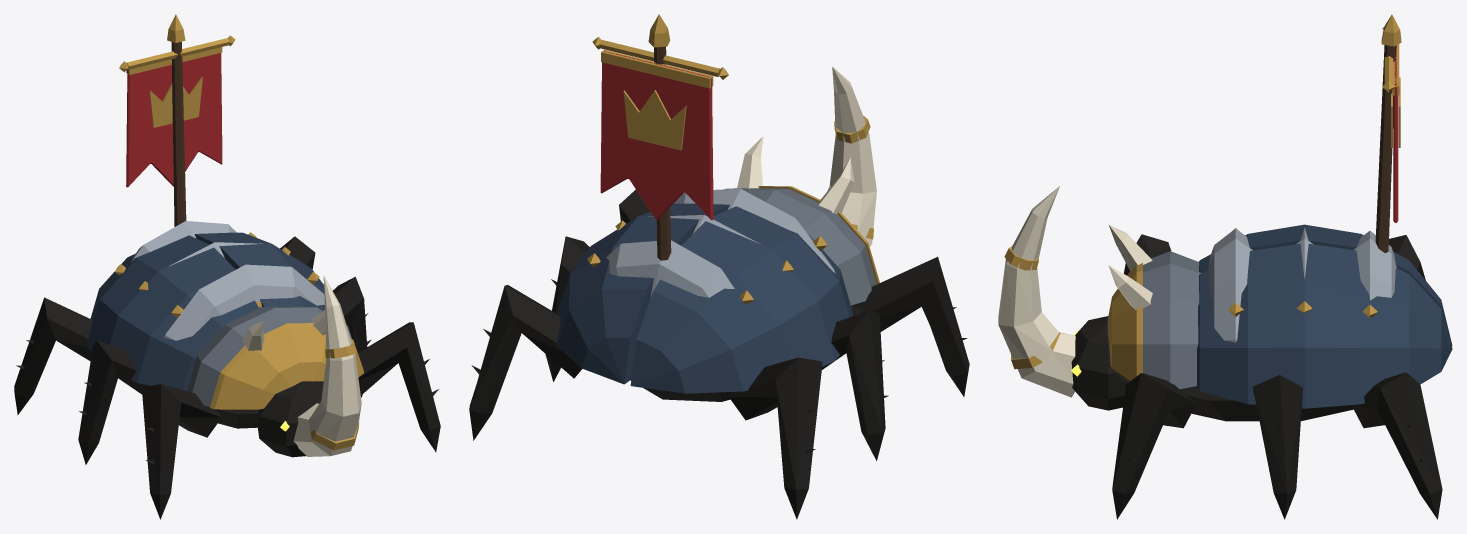
File: RhinoWarlord.fbx
The picture shows the model from 3 angles, left to right: view 1: azimuth 30°, elevation 25°; view 2: azimuth 150°, elevation 25°; view 3: azimuth 270°, elevation 25°; orthographic projection. The views are drawn at different scales.
Parts seen in each view (by area): view 1: Shell, Banner, PronotumTrim, Plates, Horn, LegR1, LegL1, Pronotum, LegR3, Body, LegR2, BannerPole (+6 smaller); view 2: Shell, Banner, LegR3, Plates, LegL3, LegR1, Pronotum, LegR2, Horn, BannerCrown, Horns, BannerTrim (+5 smaller); view 3: Shell, Horn, Pronotum, LegL3, LegL1, Plates, Body, LegL2, PronotumTrim, BannerPole, Horns, Banner (+5 smaller).
Boxes of the visible parts, box(x1,y1,x2,y2) form: Shell: box(86, 232, 324, 390); Banner: box(126, 53, 222, 187); PronotumTrim: box(210, 323, 364, 409); Plates: box(131, 221, 324, 340); Horn: box(293, 275, 361, 456); LegR1: box(142, 384, 221, 519); LegL1: box(358, 322, 440, 452); Pronotum: box(187, 306, 352, 406); LegR3: box(14, 297, 91, 415); Body: box(214, 381, 323, 457); LegR2: box(78, 340, 149, 464); BannerPole: box(171, 41, 186, 226); Shell: box(556, 203, 852, 393); Banner: box(600, 51, 713, 220); LegR3: box(729, 357, 822, 519); Plates: box(606, 188, 835, 297); LegL3: box(469, 285, 581, 440); LegR1: box(851, 256, 969, 396); Pronotum: box(725, 188, 876, 305); LegR2: box(822, 310, 888, 460); Horn: box(827, 67, 876, 246); BannerCrown: box(601, 49, 713, 150); Horns: box(737, 136, 854, 214); BannerTrim: box(592, 14, 728, 79); Shell: box(1193, 224, 1452, 408); Horn: box(998, 186, 1075, 397); Pronotum: box(1143, 251, 1201, 389); LegL3: box(1351, 372, 1442, 519); LegL1: box(1112, 373, 1196, 519); Plates: box(1208, 227, 1396, 342); Body: box(1071, 316, 1353, 421); LegL2: box(1253, 375, 1302, 519); PronotumTrim: box(1107, 263, 1142, 380); BannerPole: box(1375, 45, 1396, 253); Horns: box(1108, 225, 1152, 309); Banner: box(1393, 45, 1398, 222).
Size of the model in its own units: 11.1 by 13.8 by 13.2.
